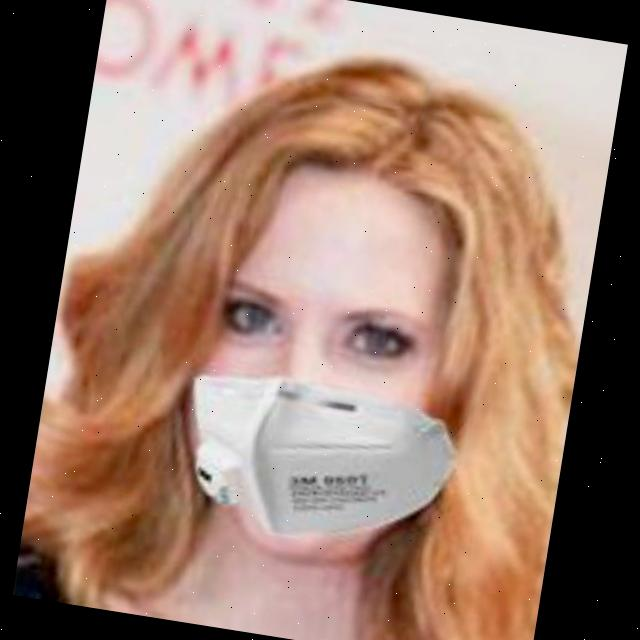suspicion: (128, 71, 544, 562)
